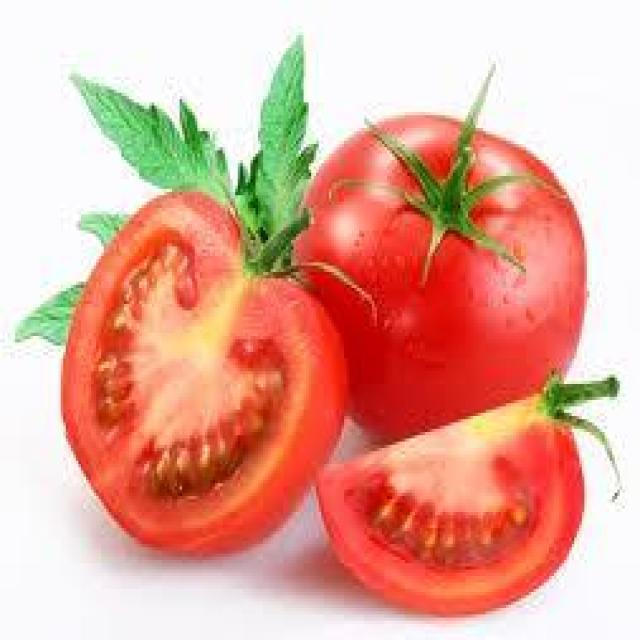kirmizi: (276, 90, 566, 546)
